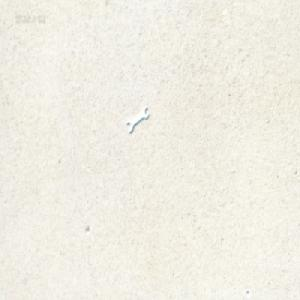Wrench: (125, 106, 148, 134)
